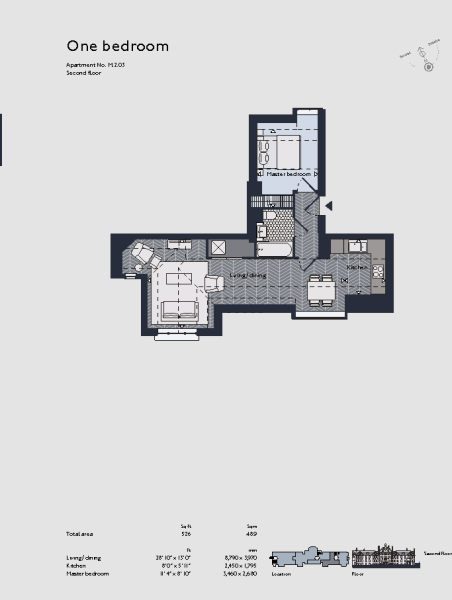GrossArea: (64, 522, 260, 554)
